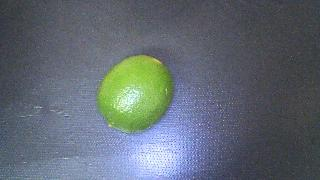EXPORTACION: (97, 55, 174, 133)
